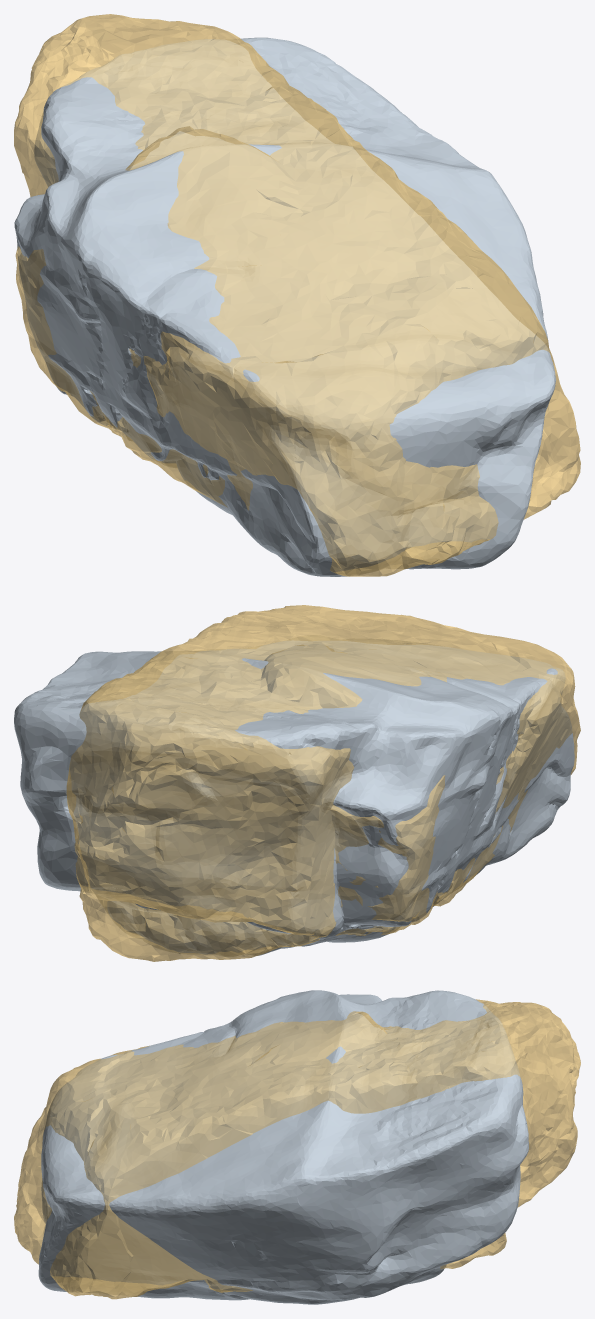
3 views of the same model, one above another, from view 1: azimuth 30°, elevation 25°; view 2: azimuth 150°, elevation 25°; view 3: azimuth 270°, elevation 25° (orthographic). The views are drawn at different scales.
Visible parts, largest first — view 1: imagination, truth; view 2: imagination, truth; view 3: imagination, truth.
Boxes of the visible parts, bbox=[...] form: imagination: bbox=[14, 37, 555, 576]; truth: bbox=[14, 14, 580, 576]; imagination: bbox=[14, 635, 574, 956]; truth: bbox=[66, 605, 580, 961]; imagination: bbox=[38, 990, 528, 1304]; truth: bbox=[14, 999, 580, 1299].
Size of the model in its own units: 0.801 by 0.5899 by 1.2.
